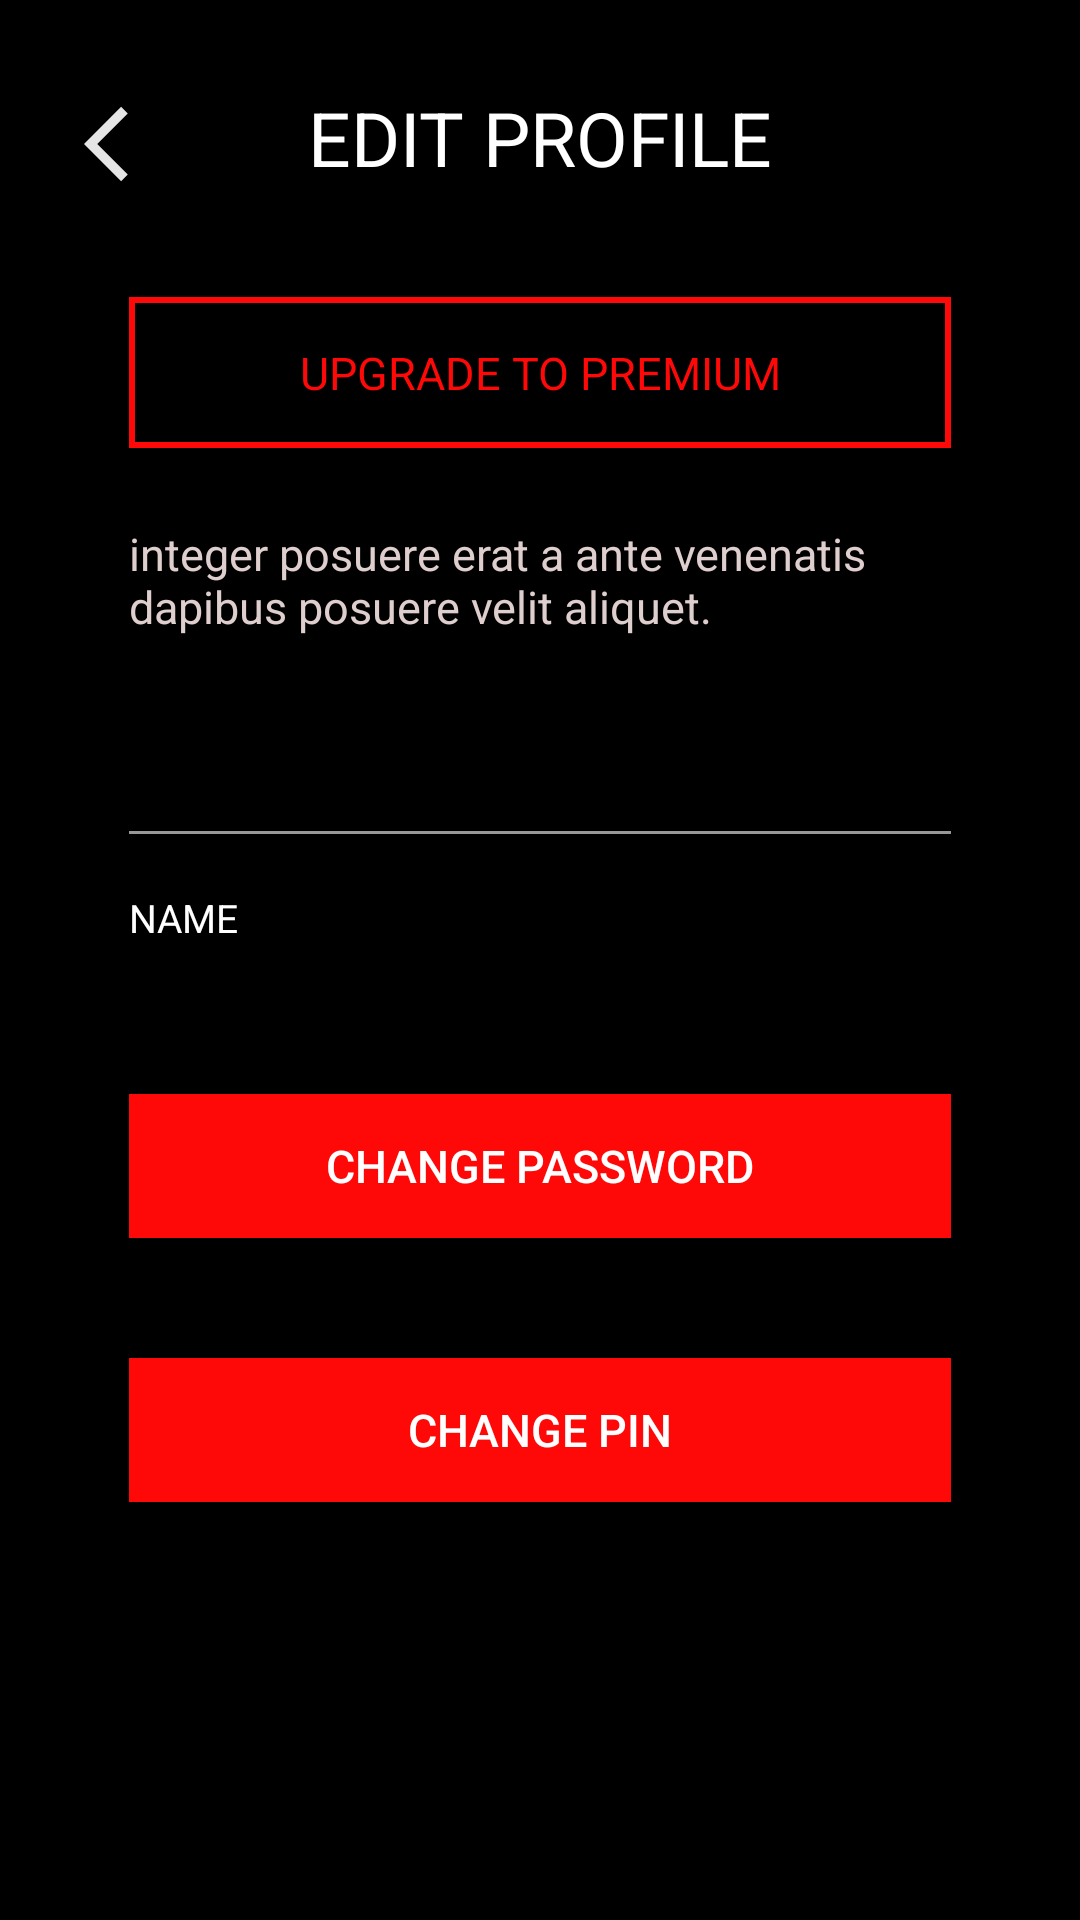

Icons on this 1080 × 1920 Android screen, each with its box as (x1, y1, x2, y2):
arrow back: (84, 107, 128, 181)
